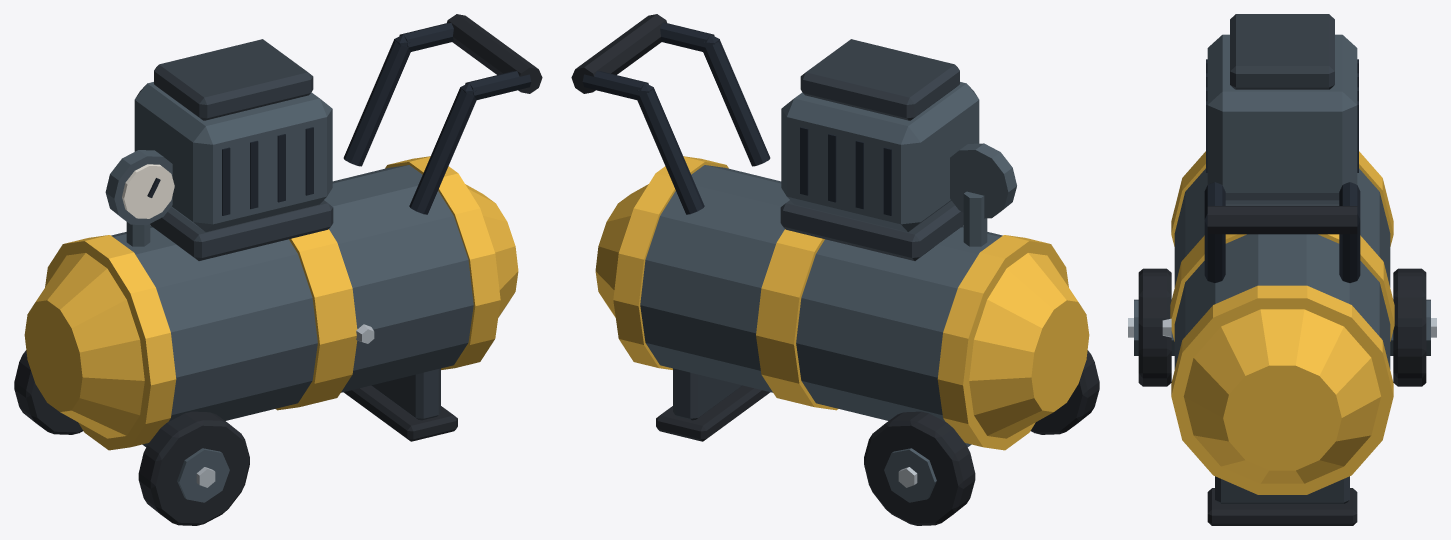
Rendered from Prop_Compressor.fbx.
3 views of the same model, side by side, from view 1: azimuth 30°, elevation 25°; view 2: azimuth 150°, elevation 25°; view 3: azimuth 270°, elevation 25° (orthographic). The views are drawn at different scales.
Parts seen in each view (by area): view 1: Frame, Amber_Metal, FrameDark, Rubber, Slate, Cream_SmoothPlastic, Frame_Metal, SteelLight; view 2: Frame, Amber_Metal, FrameDark, Rubber, Slate, Frame_Metal; view 3: Amber_Metal, Frame, Rubber, FrameDark, Slate, Frame_Metal, SteelLight.
Boxes of the visible parts, x1,y1,x2,y2 form: Frame: (105, 82, 473, 446); Amber_Metal: (24, 156, 518, 450); FrameDark: (150, 39, 440, 420); Rubber: (14, 14, 542, 525); Slate: (147, 23, 531, 215); Cream_SmoothPlastic: (122, 164, 174, 218); Frame_Metal: (177, 448, 229, 502); SteelLight: (196, 324, 374, 487); Frame: (640, 82, 1016, 446); Amber_Metal: (595, 156, 1089, 450); FrameDark: (673, 39, 963, 420); Rubber: (571, 14, 1099, 525); Slate: (582, 23, 891, 215); Frame_Metal: (884, 448, 936, 502); Amber_Metal: (1170, 151, 1394, 494); Frame: (1174, 34, 1390, 369); Rubber: (1138, 206, 1426, 525); FrameDark: (1215, 14, 1349, 503); Slate: (1204, 59, 1360, 282); Frame_Metal: (1134, 299, 1430, 355); SteelLight: (1128, 318, 1436, 337).
Bounding box in the file's own units: 3.57 × 2.89 × 2.06.
